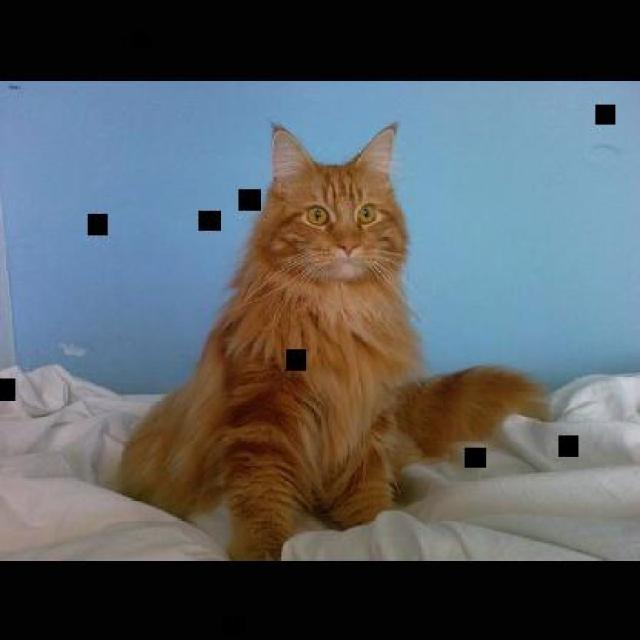unauthorized: (112, 118, 554, 560)
